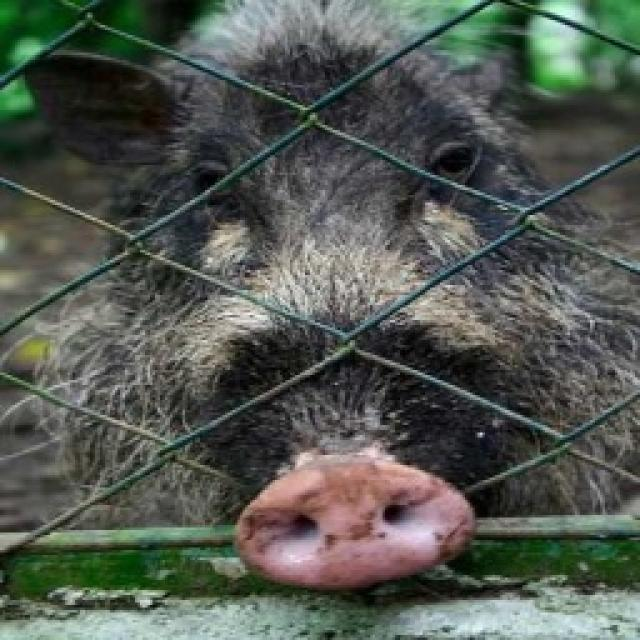pig: (19, 0, 636, 590)
